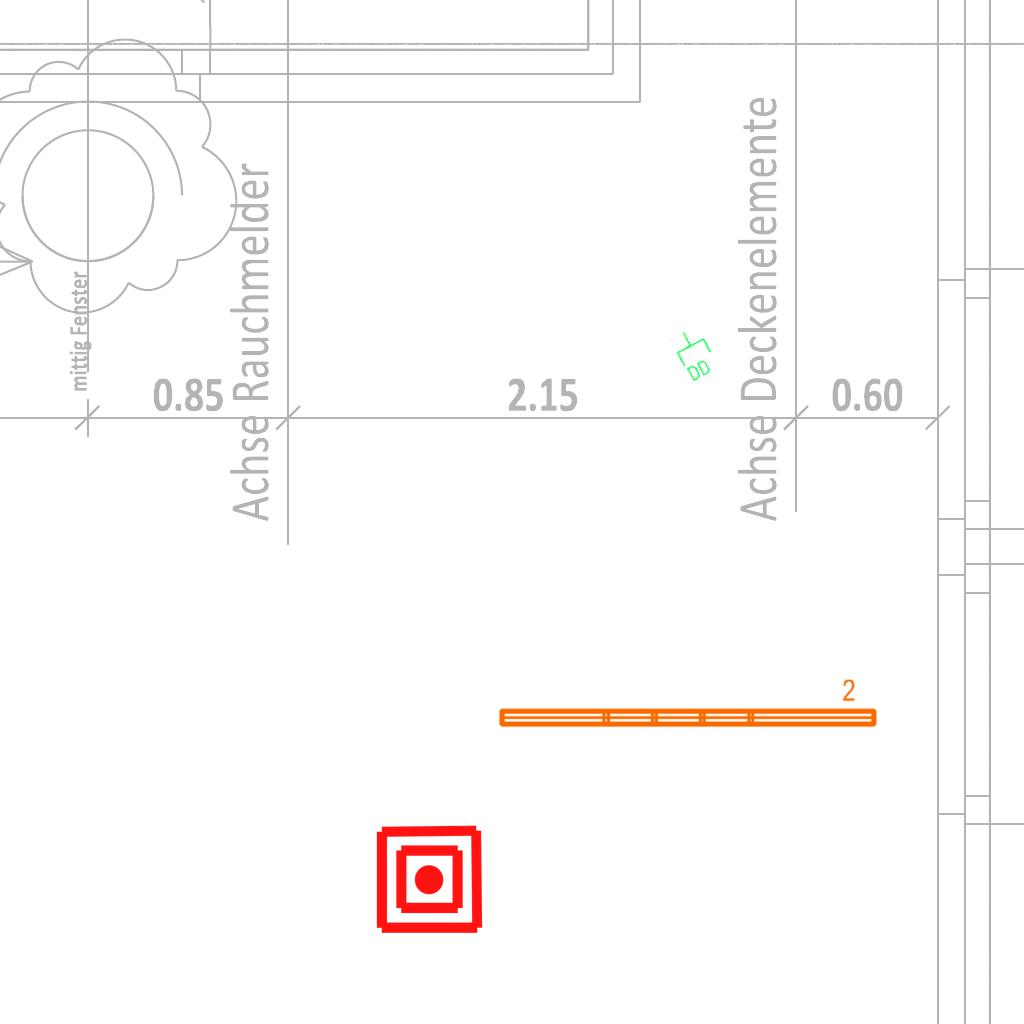Ambulanz_Pendelleuchte_LED: (494, 677, 881, 733)
Datenanschluss_zweifach: (667, 323, 722, 385)
NAM-Nichtautomatischer_Melder: (373, 823, 486, 936)
